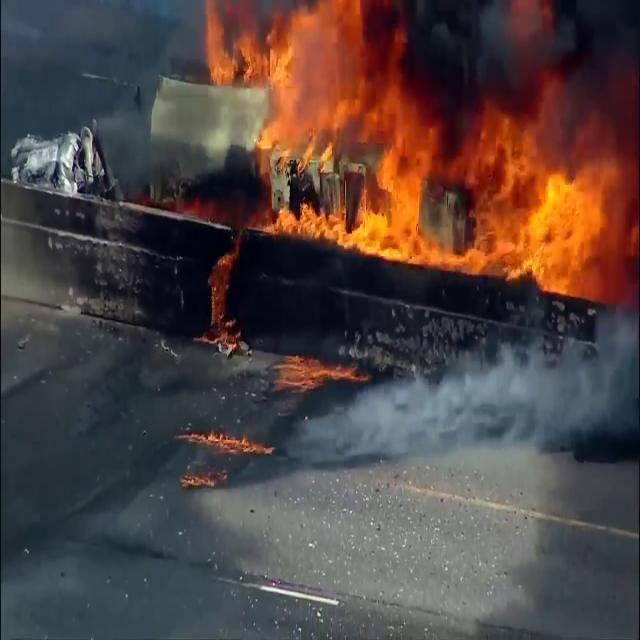Fire: (198, 6, 632, 296)
